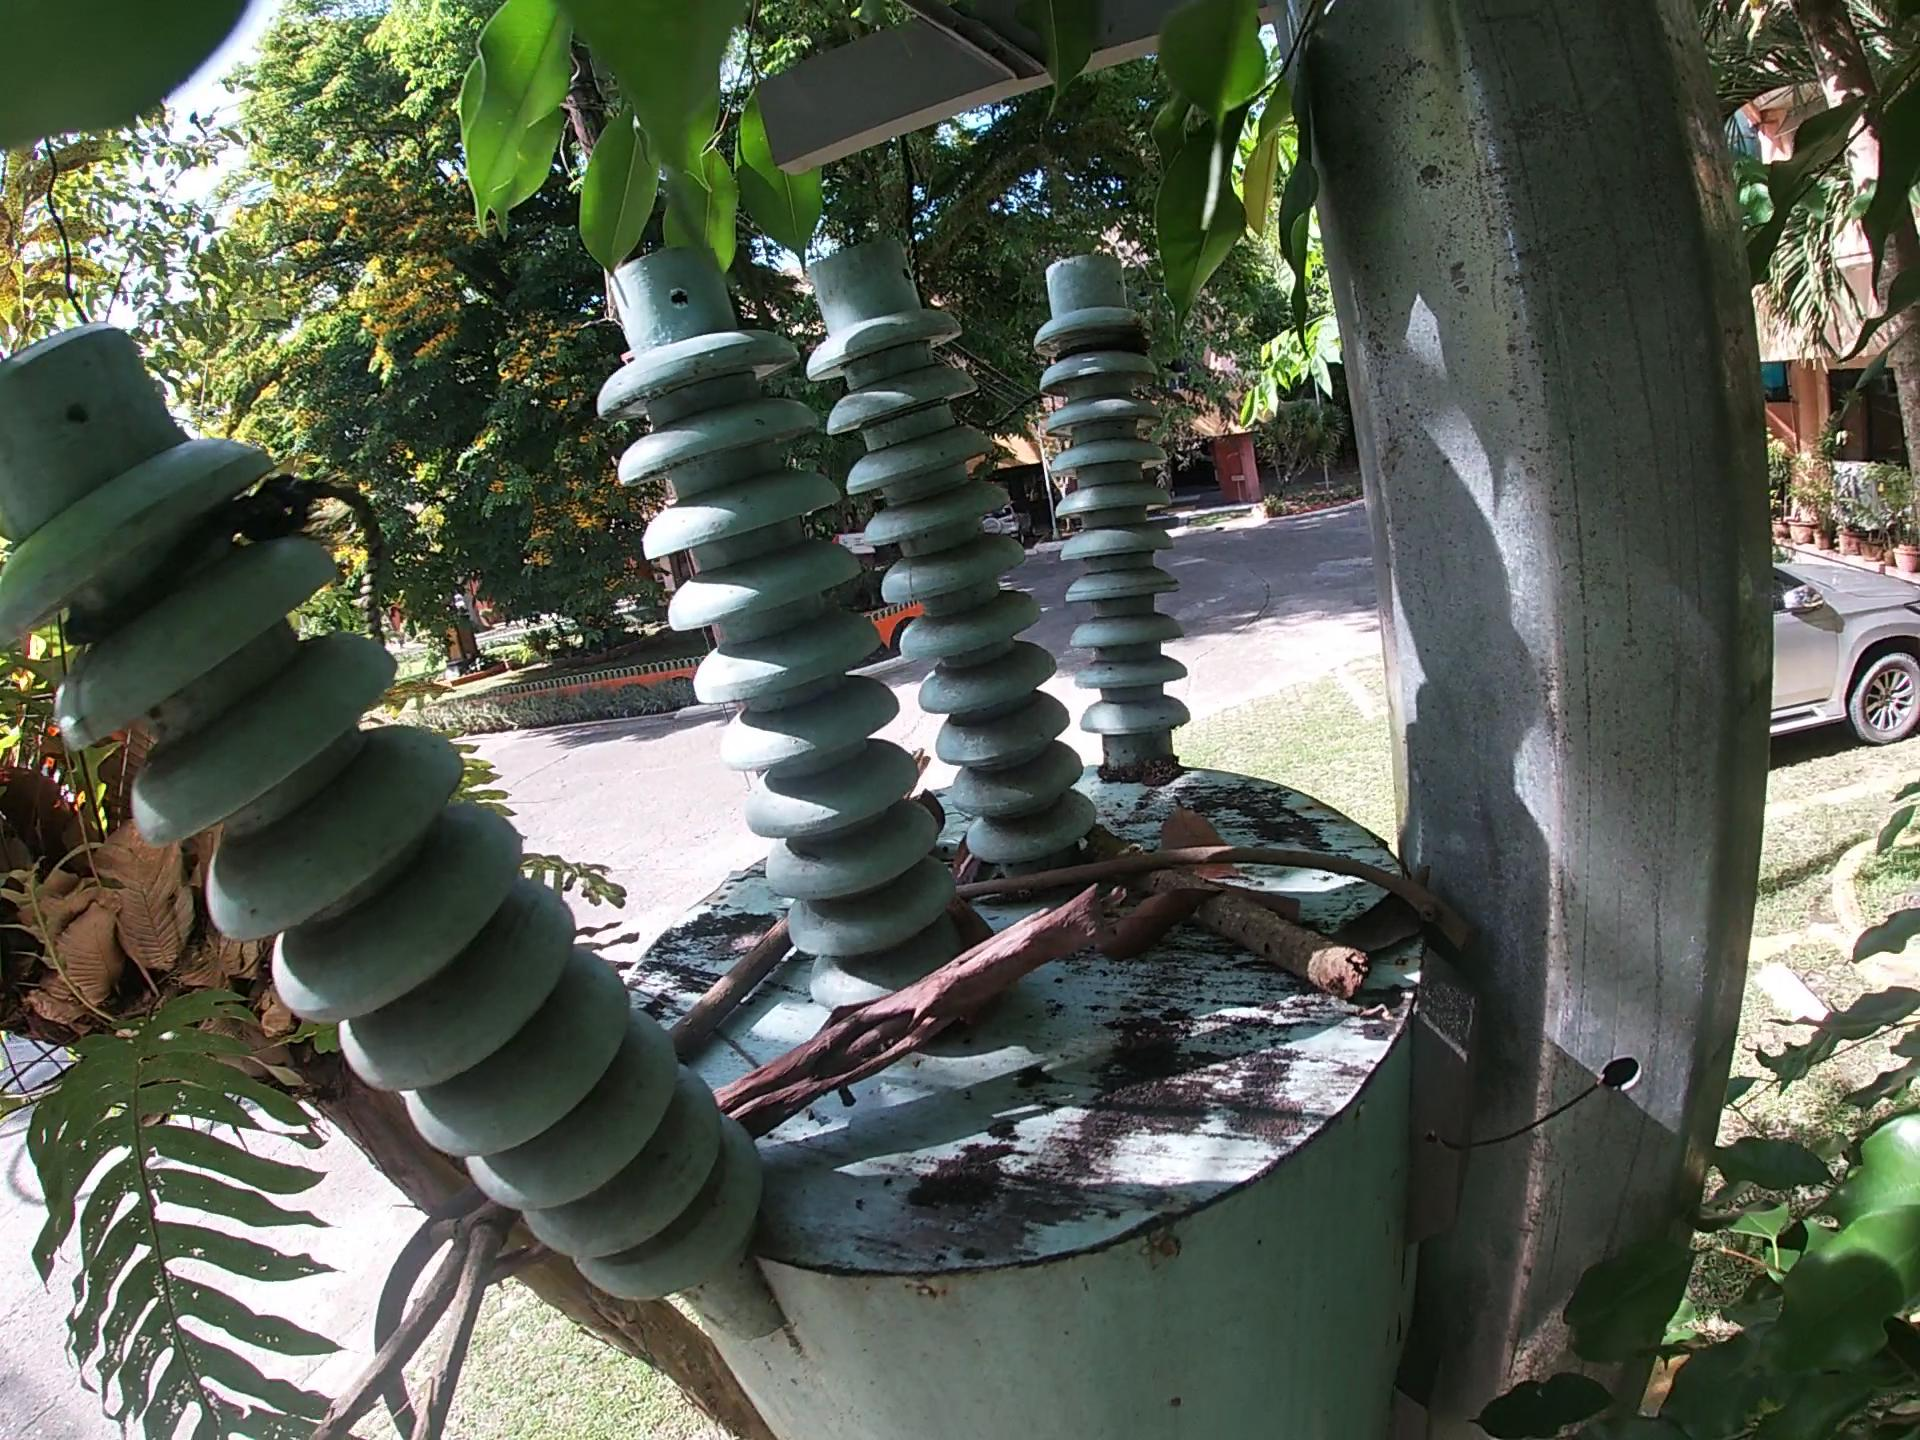leaf: (1085, 876, 1220, 965), (1329, 861, 1445, 964), (1155, 796, 1258, 888)
mahogany fruit: (943, 898, 1014, 1050)
tree branch: (705, 880, 1135, 1142), (945, 838, 1482, 961), (296, 1193, 528, 1440), (1076, 815, 1377, 998), (661, 914, 804, 1066)
